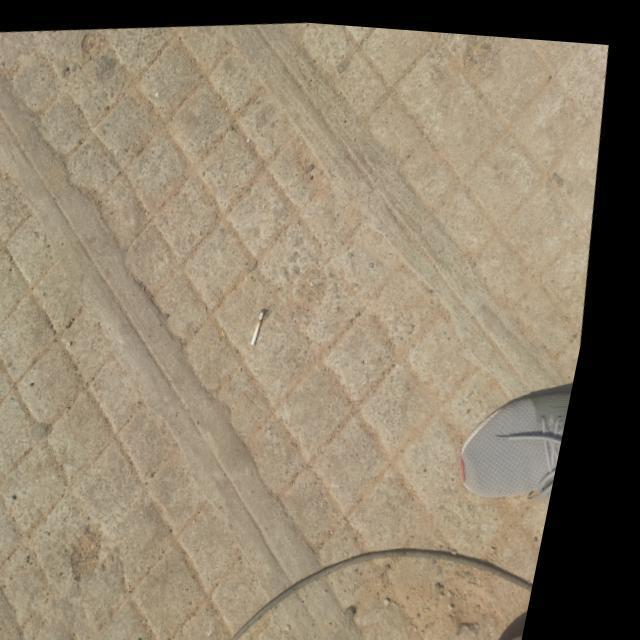Background: (0, 19, 608, 640), (264, 551, 553, 640)
Cig_bud: (263, 303, 277, 341)
